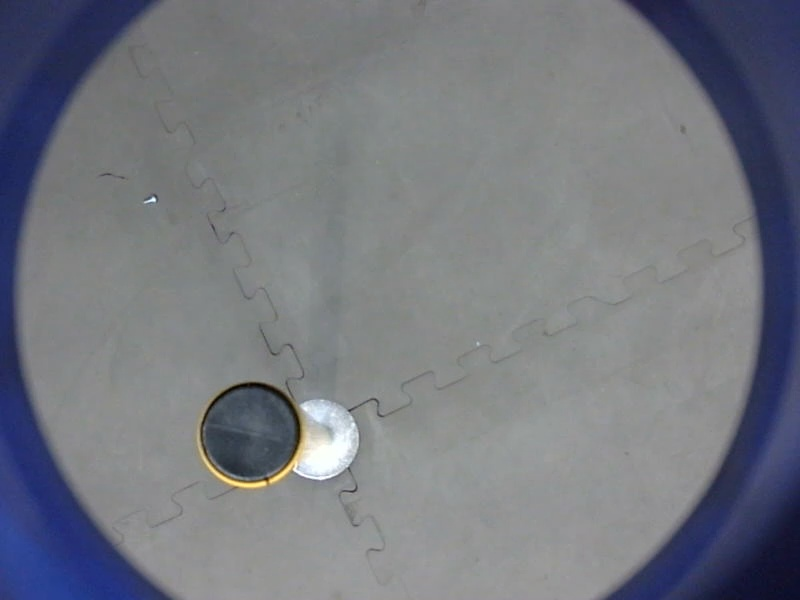tip: (187, 372, 312, 494)
